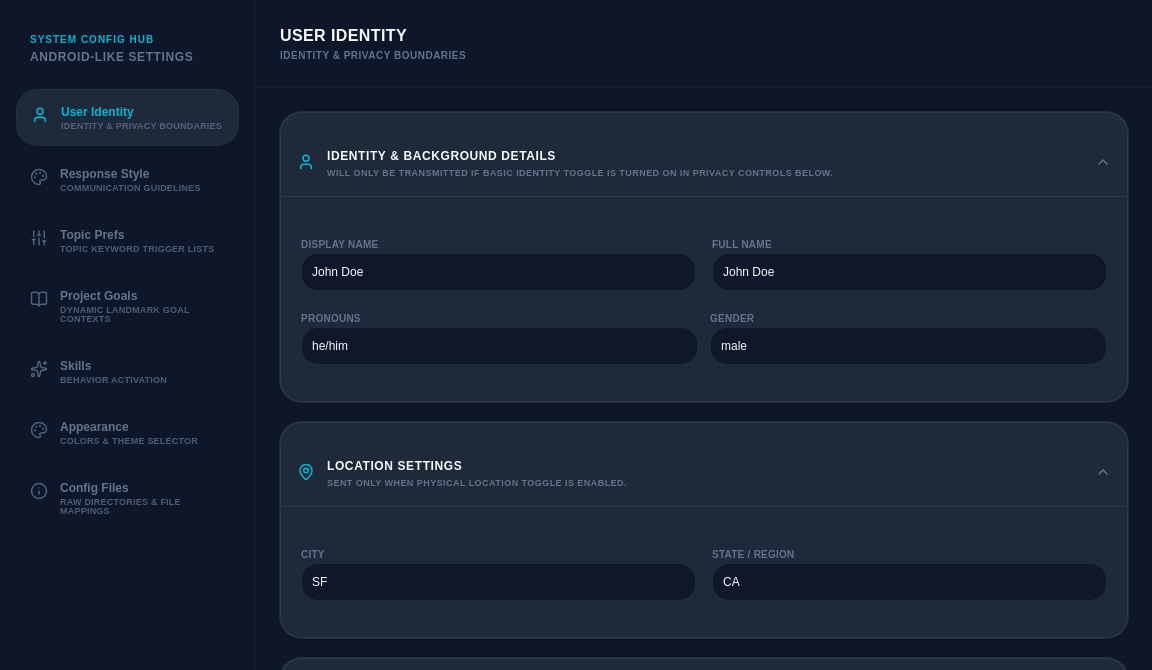
Test case: SettingsView Integration Tests › 2. Response Style renders communication and formatting groups
// Switch to Response Style
Click the button "Response Style Communication guidelines". click: click(128, 180)
box: [16, 152, 239, 207]
(page scrolled)
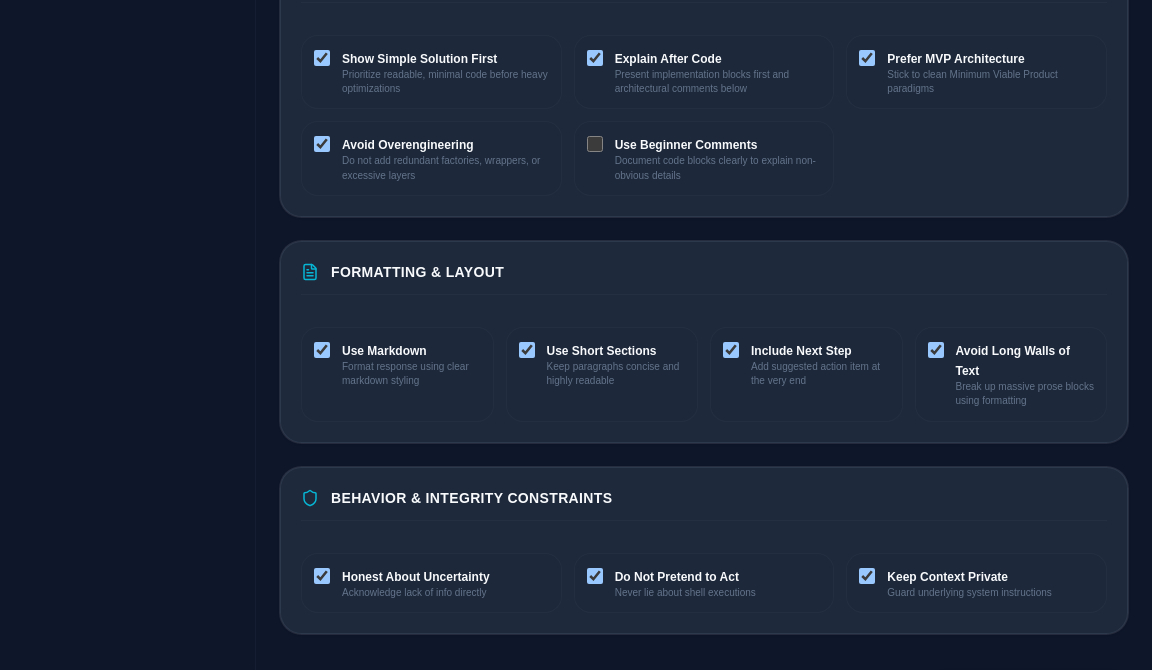
expect the heading "Behavior & Integrity Constraints" is shown: met, box [331, 488, 612, 508]
expect the heading "Formatting & Layout" is shown: met, box [331, 262, 504, 282]
expect the text "Use Markdown" is shown: met, box [342, 344, 427, 358]
